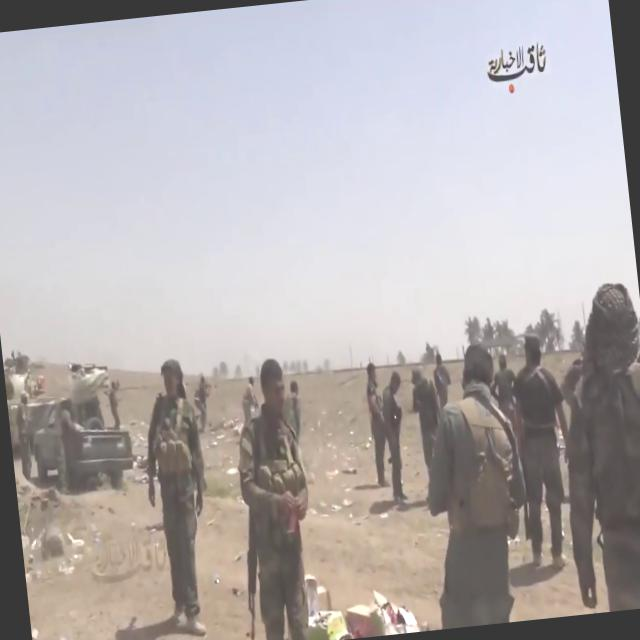long weapon: (220, 450, 283, 639)
